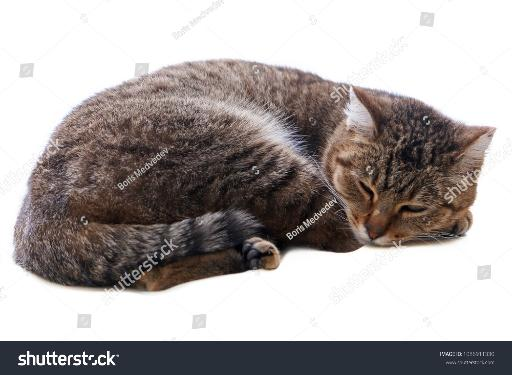cat_sleeping: (13, 59, 496, 291)
